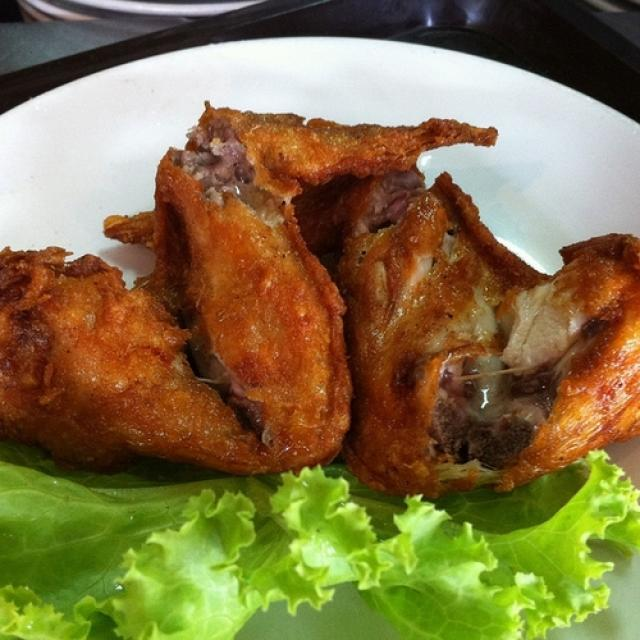Deep fried chicken wing: (7, 92, 640, 483)
